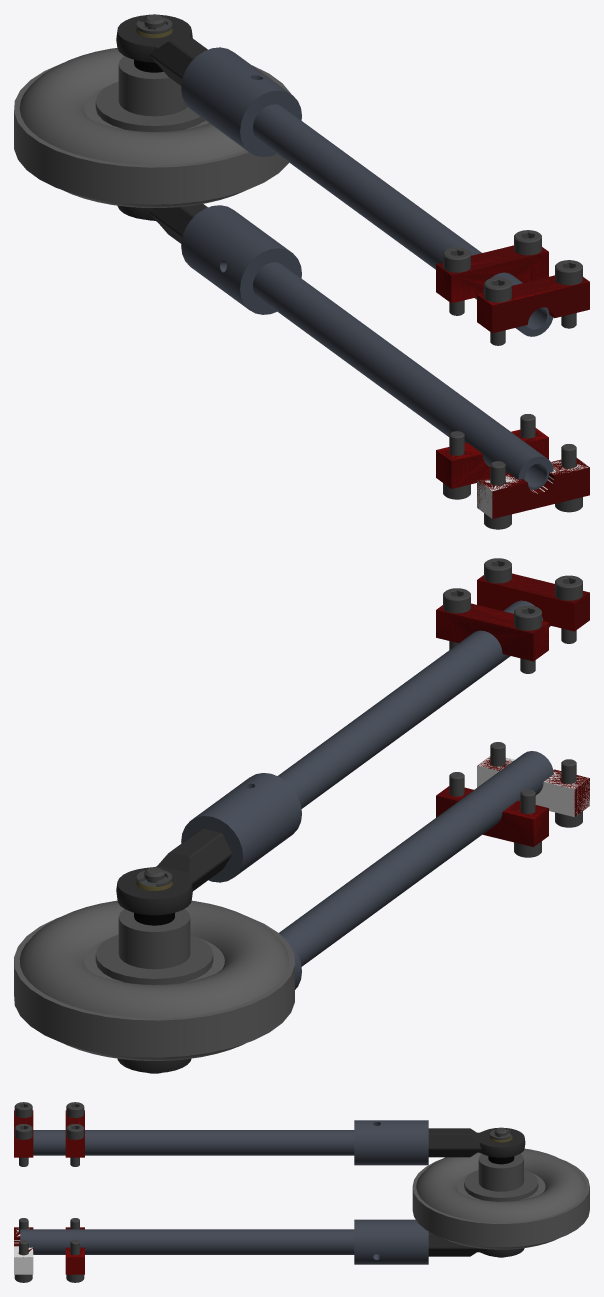
File: passive_stationary_part.dae
The picture shows the model from 3 angles, top to bottom: view 1: azimuth 30°, elevation 25°; view 2: azimuth 150°, elevation 25°; view 3: azimuth 270°, elevation 25°; orthographic projection. The views are drawn at different scales.
Parts seen in each view (by area): view 1: _3DGeom_171, _3DGeom_176, _3DGeom_170, Body_1 (×10), _3DGeom_178, _3DGeom_173; view 2: _3DGeom_171, _3DGeom_176, Body_1 (×9), _3DGeom_170, _3DGeom_178, _3DGeom_173; view 3: _3DGeom_171, _3DGeom_176, Body_1 (×10), _3DGeom_173, _3DGeom_178, _3DGeom_170.
Boxes of the visible parts, <box> form: _3DGeom_171: <box>181,47,553,489</box>; _3DGeom_176: <box>14,48,290,207</box>; _3DGeom_170: <box>436,245,589,518</box>; Body_1 (×10): <box>436,247,588,529</box>; _3DGeom_178: <box>95,56,205,131</box>; _3DGeom_173: <box>116,14,207,243</box>; _3DGeom_171: <box>181,600,553,989</box>; _3DGeom_176: <box>14,900,294,1060</box>; Body_1 (×9): <box>436,573,589,857</box>; _3DGeom_170: <box>436,573,589,846</box>; _3DGeom_178: <box>95,909,213,984</box>; _3DGeom_173: <box>116,828,231,1072</box>; _3DGeom_171: <box>20,1120,428,1264</box>; _3DGeom_176: <box>412,1148,589,1249</box>; Body_1 (×10): <box>14,1102,84,1282</box>; _3DGeom_173: <box>428,1128,525,1257</box>; _3DGeom_178: <box>464,1154,538,1201</box>; _3DGeom_170: <box>14,1112,84,1257</box>.
Size of the model in its own units: 0.0548 by 0.1785 by 0.052.
